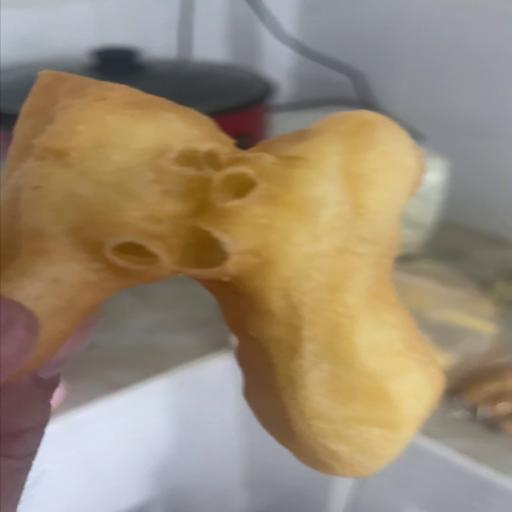street_golden_defect: (2, 89, 451, 484)
